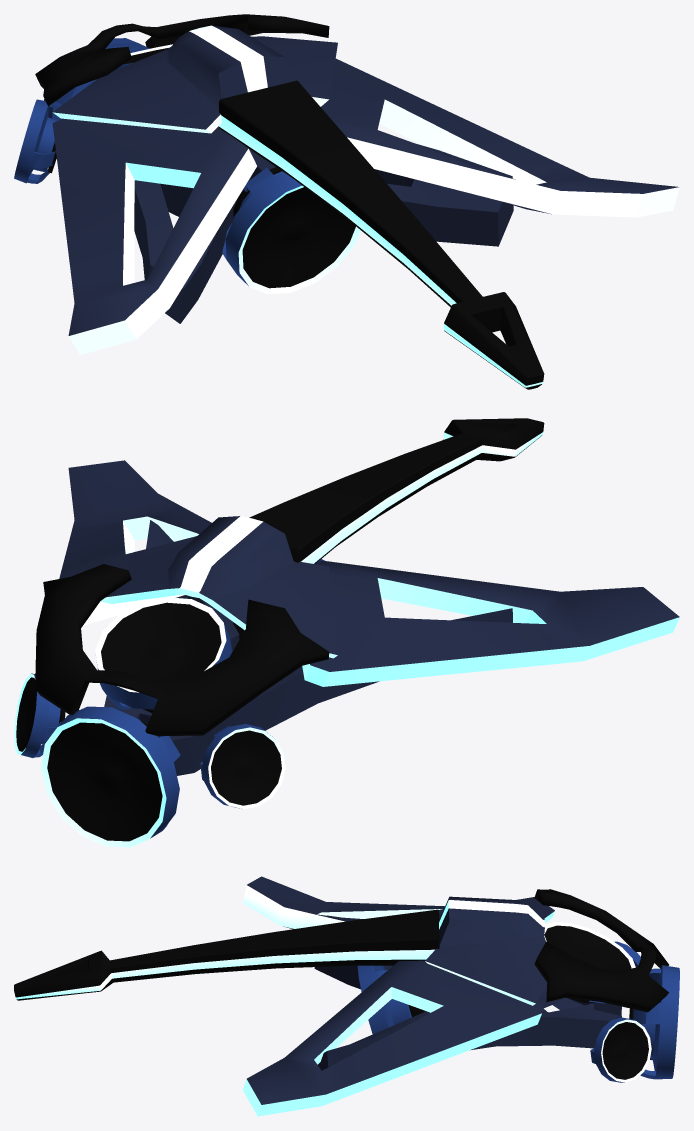
File: VStarFighter_0.fbx
3 views of the same model, one above another, from view 1: azimuth 30°, elevation 25°; view 2: azimuth 150°, elevation 25°; view 3: azimuth 270°, elevation 25° (orthographic). The views are drawn at different scales.
Parts seen in each view (by area): view 1: VStarFighter_00; view 2: VStarFighter_00; view 3: VStarFighter_00.
Boxes of the visible parts, box(x1,y1,x2,y2) form: VStarFighter_00: box(14, 14, 679, 389); VStarFighter_00: box(14, 418, 679, 847); VStarFighter_00: box(14, 876, 679, 1116).
Bounding box in the file's own units: 1114 × 387 × 1372.
